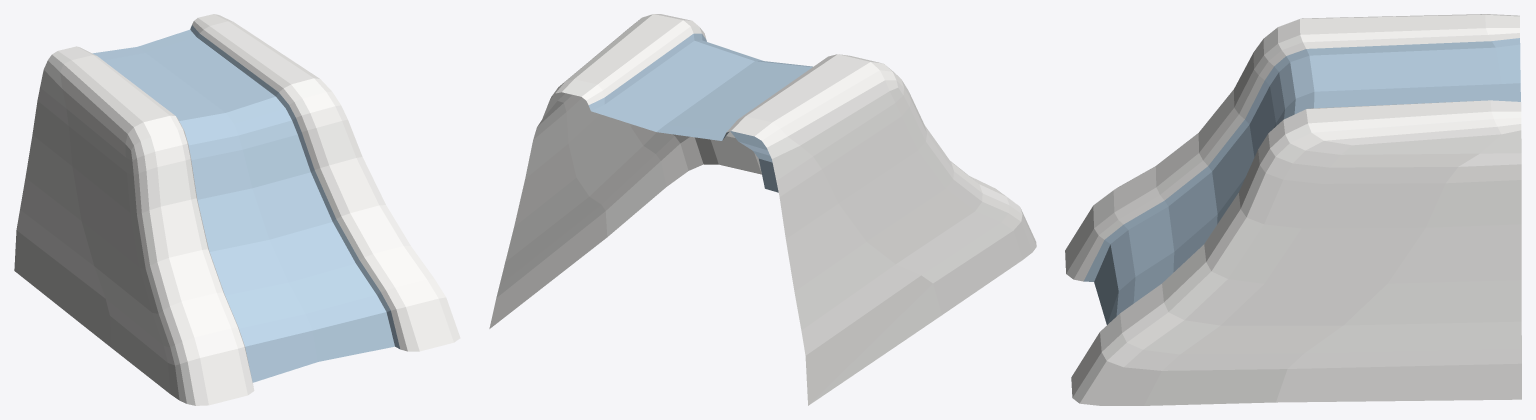
The model's file is Isl_16_Slide.fbx.
3 views of the same model, side by side, from view 1: azimuth 30°, elevation 25°; view 2: azimuth 150°, elevation 25°; view 3: azimuth 270°, elevation 25° (orthographic). The views are drawn at different scales.
Parts seen in each view (by area): view 1: Isl_16_Slide; view 2: Isl_16_Slide; view 3: Isl_16_Slide.
Part boxes in pixels (left/top/right/bottom): Isl_16_Slide: left=14, top=14, right=460, bottom=405; Isl_16_Slide: left=489, top=14, right=1036, bottom=405; Isl_16_Slide: left=1065, top=14, right=1521, bottom=405.
Bounding box in the file's own units: 493 × 574 × 355.
Materials: 1 (1 with a texture image).
